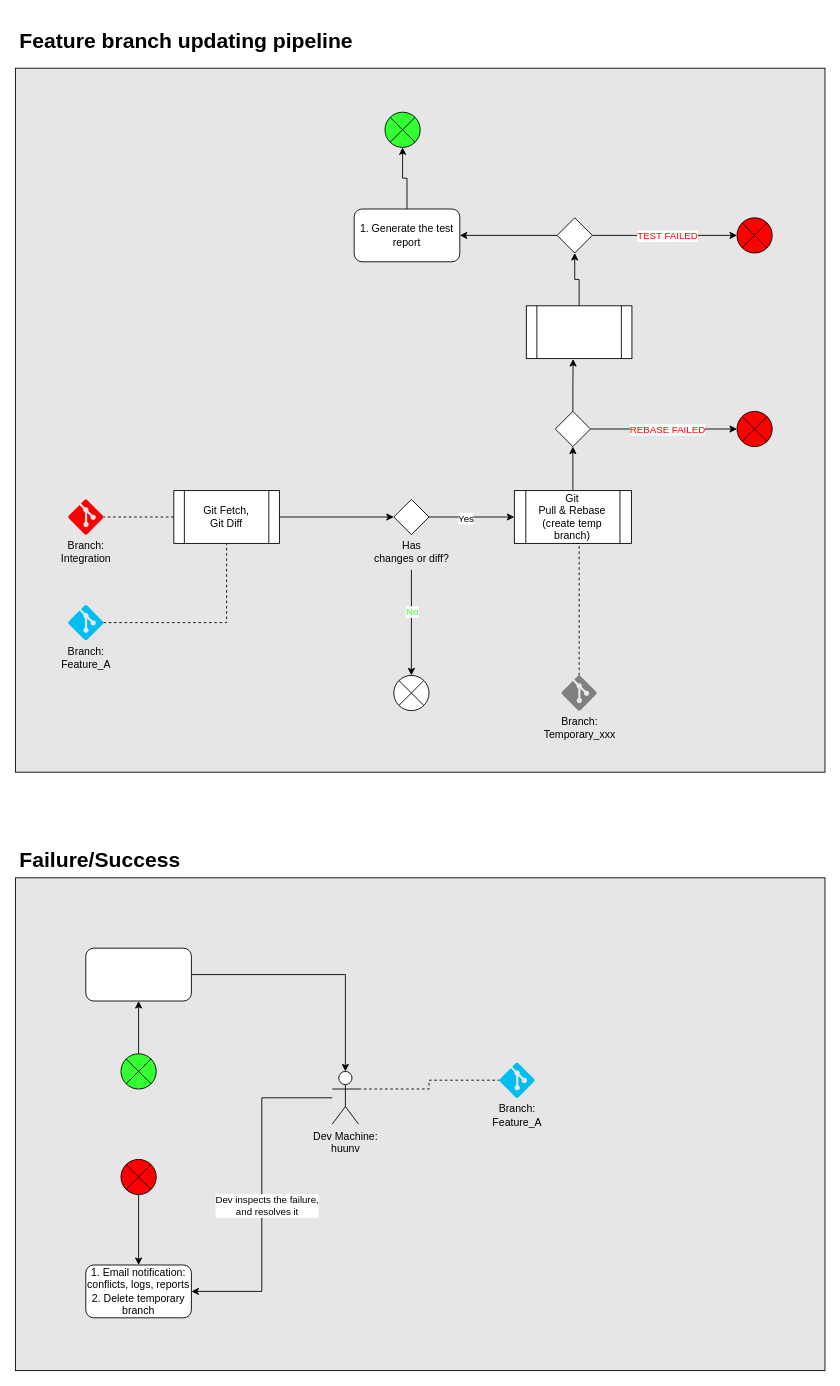
Image size: 840x1386. Some labels were removed from this diagram. Here are the shapes that lost their labels. From the top down, the centre of each, then its label:
the point at 578,332: Unit testing
the point at 138,974: 1. Email notification to inform the developer that he need to run Git pull
